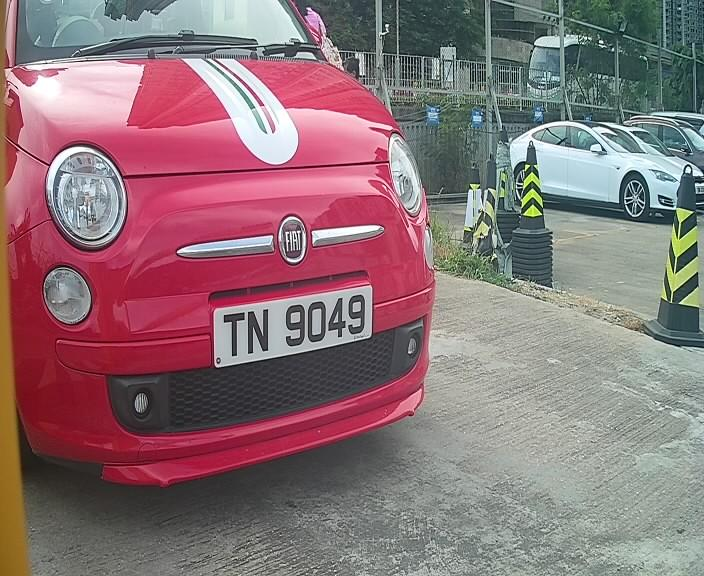License Plate: (199, 281, 378, 381)
